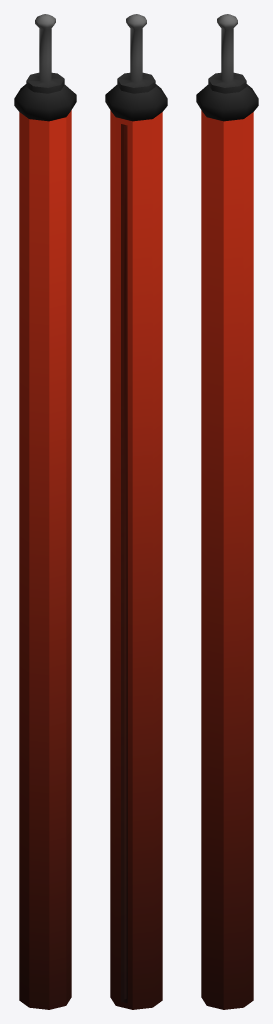
File: barrier_pillar.glb
3 views of the same model, side by side, from view 1: azimuth 30°, elevation 25°; view 2: azimuth 150°, elevation 25°; view 3: azimuth 330°, elevation 25° (orthographic).
Visible parts, largest first — view 1: barrier_pillar; view 2: barrier_pillar; view 3: barrier_pillar.
Part boxes in pixels (x1,y1,x2,y2): barrier_pillar: (14,14,76,1009); barrier_pillar: (105,14,167,1009); barrier_pillar: (196,14,258,1009).
Bounding box in the file's own units: 0.3575 × 6.64 × 0.3575.
1 material, 1 textured.
